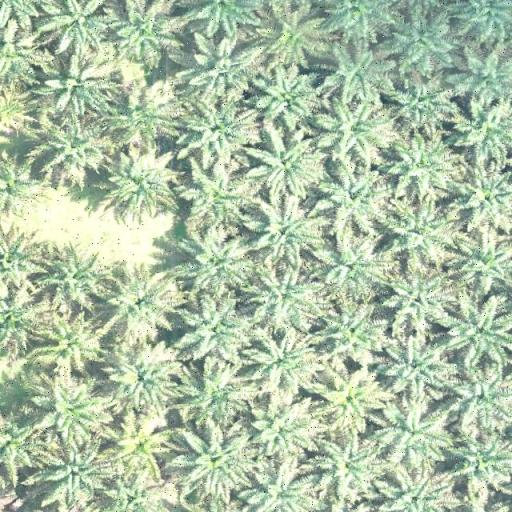Ganoderma: (0, 90, 23, 124)
